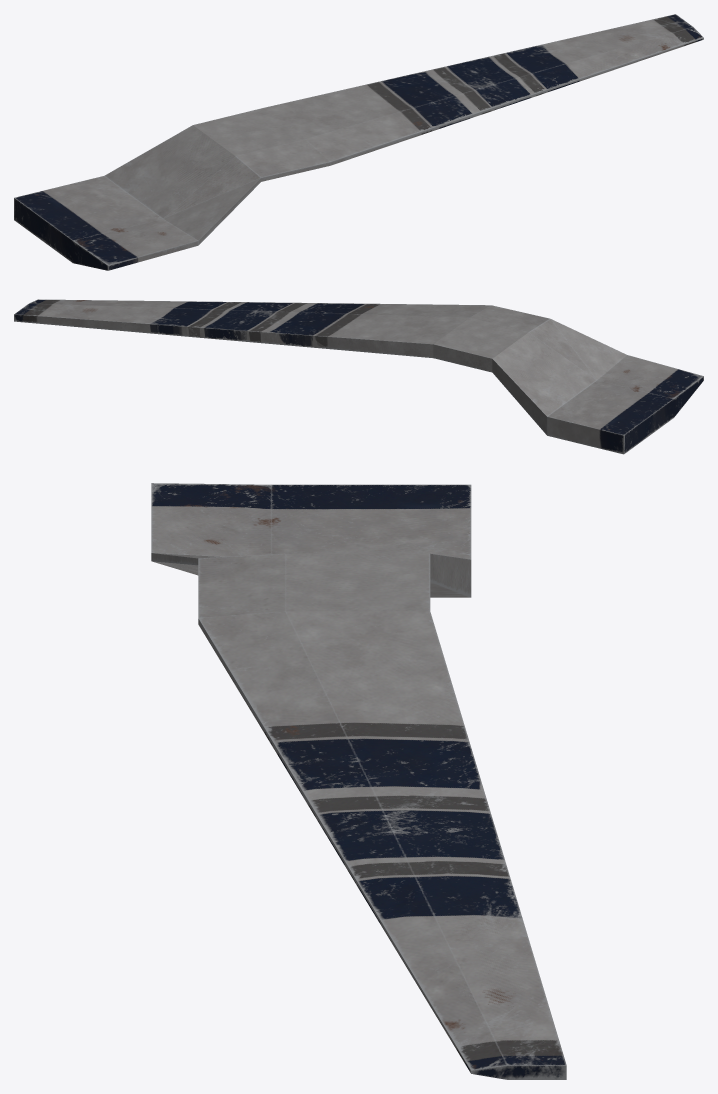
File: wing_l_3.L.fbx
3 renders of one model, top to bottom at view 1: azimuth 30°, elevation 25°; view 2: azimuth 150°, elevation 25°; view 3: azimuth 270°, elevation 25°, orthographic. The views are drawn at different scales.
Parts seen in each view (by area): view 1: wing_l_3.L; view 2: wing_l_3.L; view 3: wing_l_3.L.
Part boxes in pixels (box(x1,y1,x2,y2)): wing_l_3.L: box(14, 14, 703, 270); wing_l_3.L: box(14, 299, 703, 454); wing_l_3.L: box(151, 483, 566, 1079).
Size of the model in its own units: 99.21 by 8.68 by 30.46.
